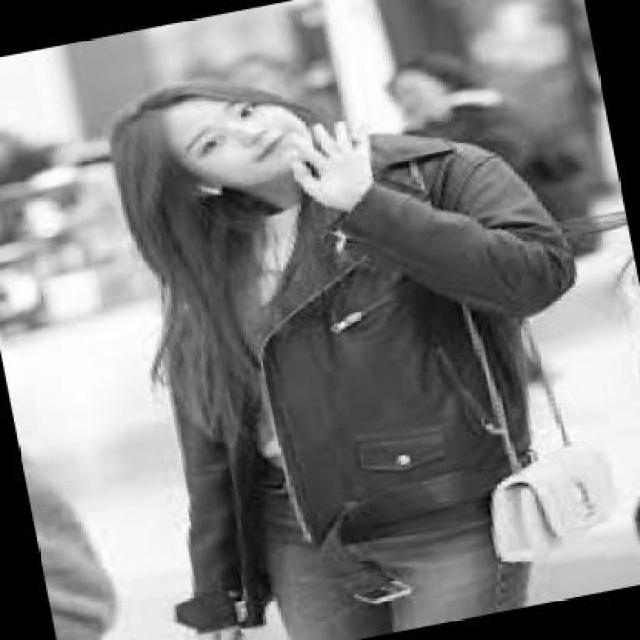earphone: (193, 171, 226, 212)
